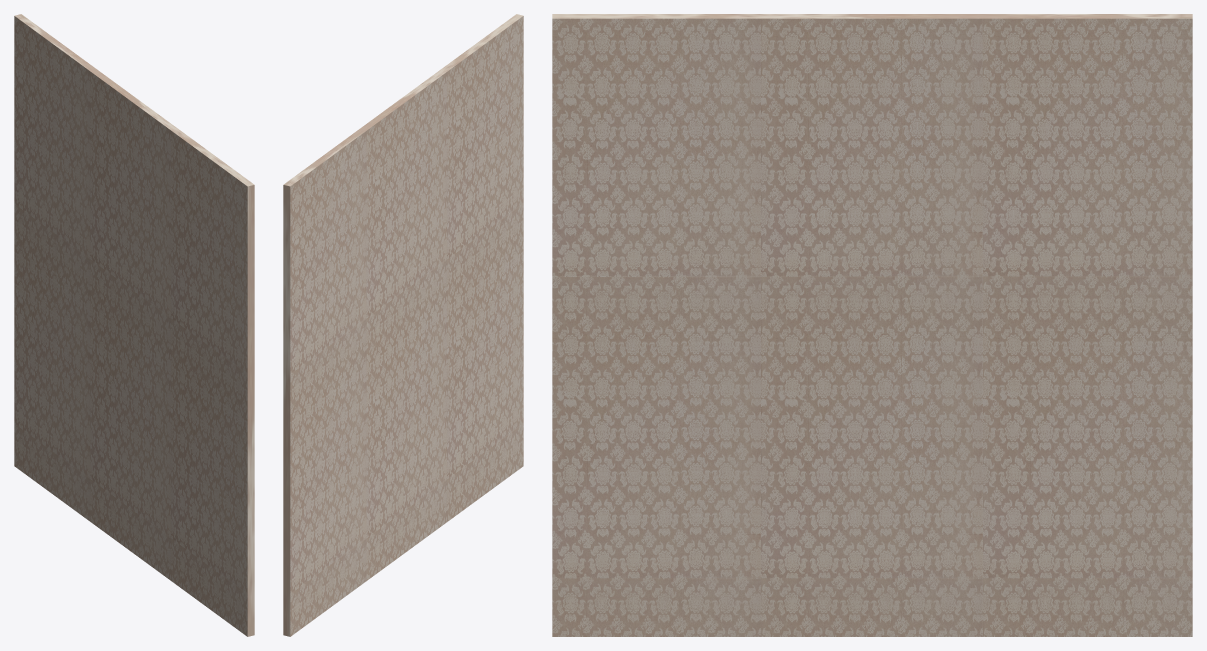
The model's file is SM_PattenWall01A.fbx.
3 renders of one model, left to right at view 1: azimuth 30°, elevation 25°; view 2: azimuth 150°, elevation 25°; view 3: azimuth 270°, elevation 25°, orthographic. The views are drawn at different scales.
Parts seen in each view (by area): view 1: SM_PattenWall01A; view 2: SM_PattenWall01A; view 3: SM_PattenWall01A.
Part boxes in pixels (x1=…): SM_PattenWall01A: x1=14, y1=14, x2=254, y2=636; SM_PattenWall01A: x1=283, y1=14, x2=523, y2=636; SM_PattenWall01A: x1=552, y1=14, x2=1192, y2=636.
Bounding box in the file's own units: 4.9 × 280 × 298.
Materials: 1 (1 with a texture image).
